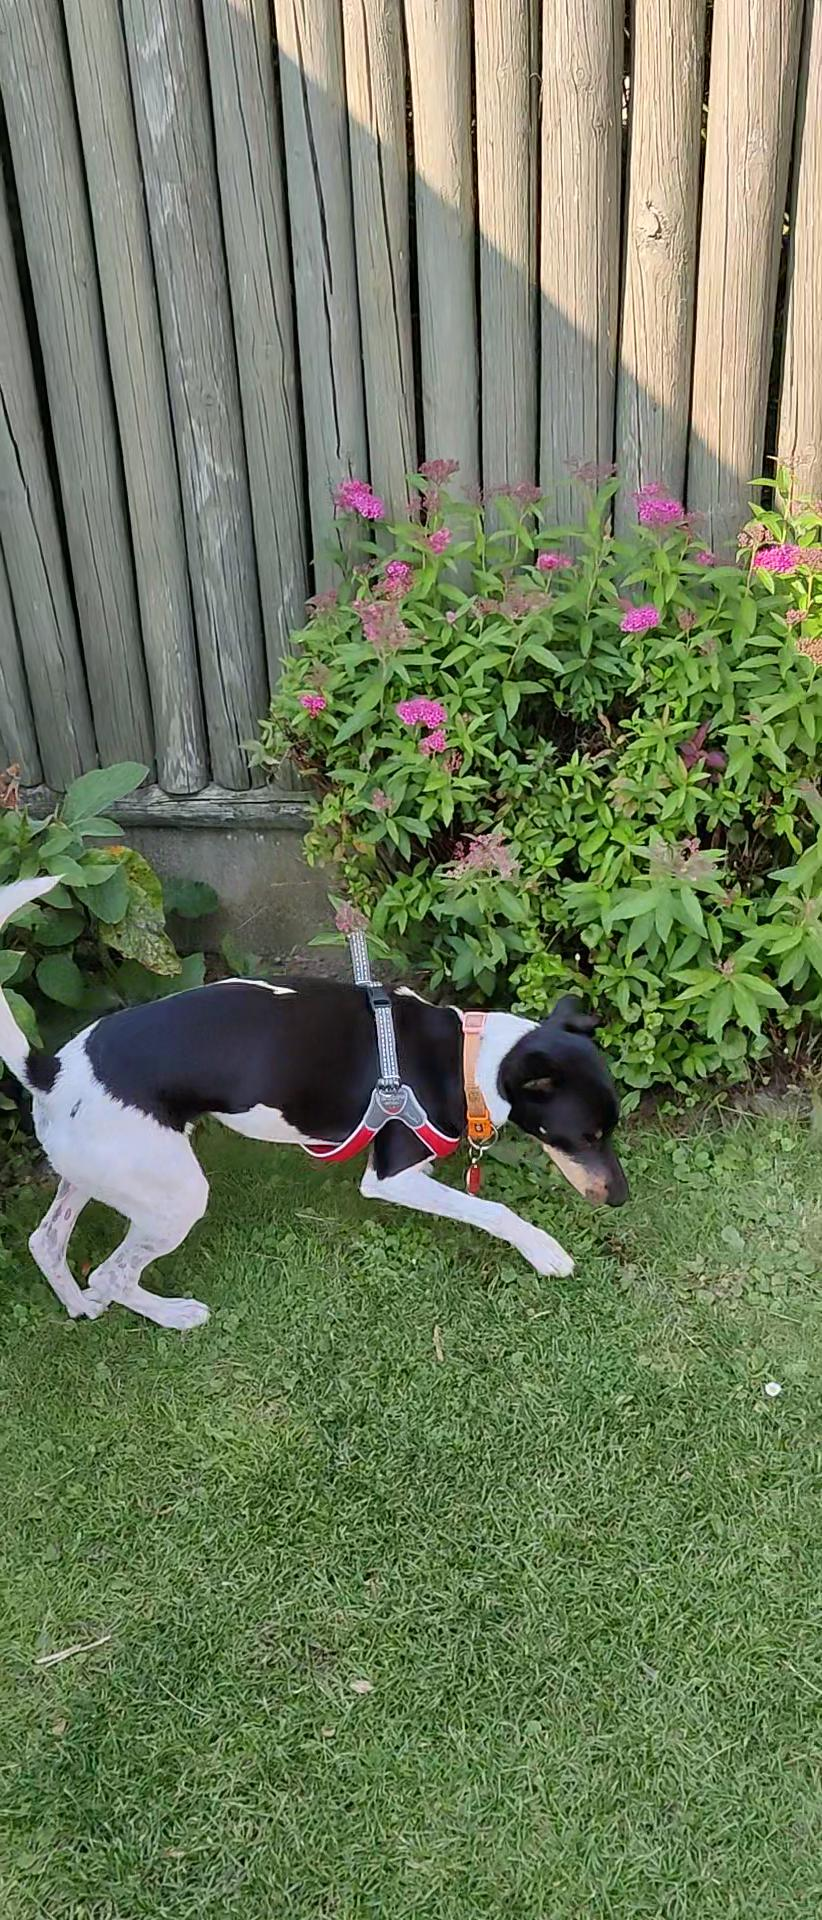Dog: (0, 868, 638, 1347)
